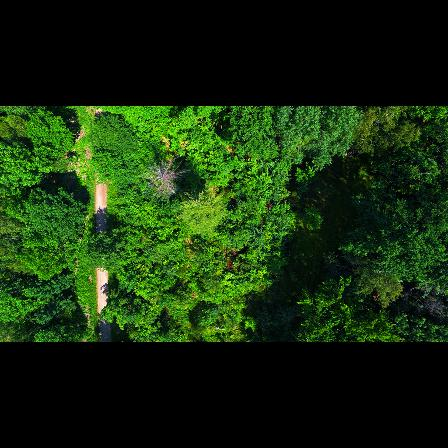Dead: (144, 148, 190, 201)
